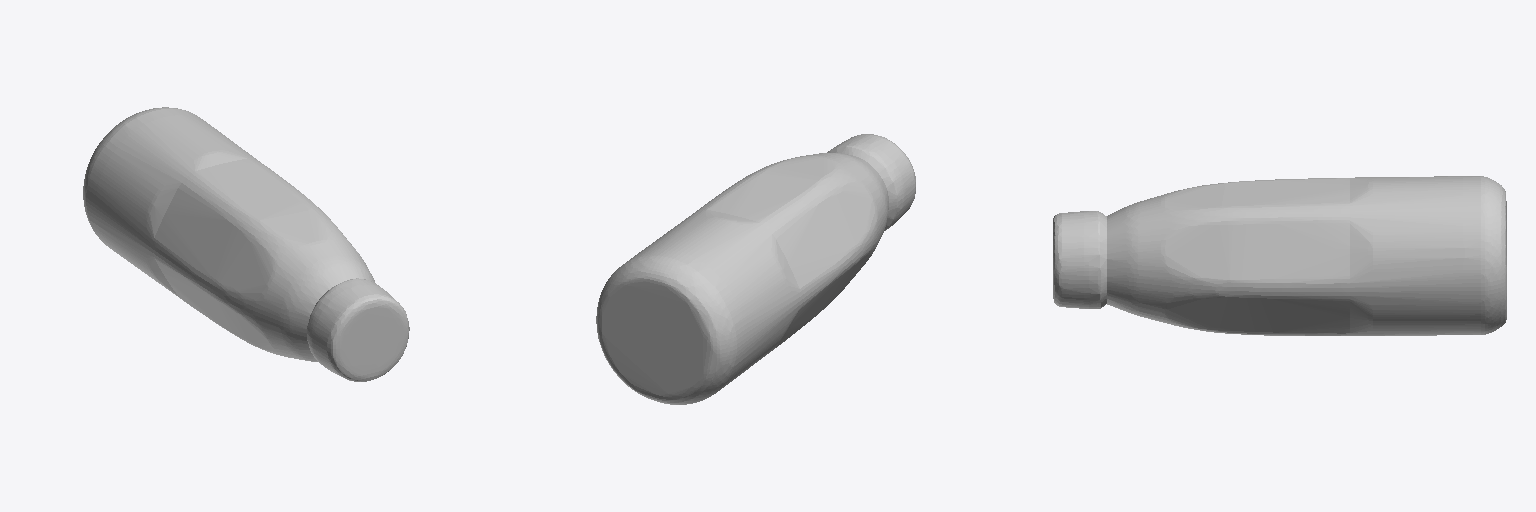
Rendered from coacd_collision.obj.
The picture shows the model from 3 angles: view 1: azimuth 30°, elevation 25°; view 2: azimuth 150°, elevation 25°; view 3: azimuth 270°, elevation 25°; orthographic projection.
Visible parts, largest first — view 1: geometry_2, geometry_0, geometry_1; view 2: geometry_0, geometry_2, geometry_1; view 3: geometry_2, geometry_0, geometry_1.
Boxes of the visible parts, <box> form: geometry_2: <box>153,159,374,361</box>; geometry_0: <box>83,107,259,296</box>; geometry_1: <box>307,278,409,381</box>; geometry_0: <box>596,210,800,404</box>; geometry_2: <box>696,153,888,347</box>; geometry_1: <box>827,134,915,230</box>; geometry_2: <box>1107,178,1349,335</box>; geometry_0: <box>1350,176,1506,335</box>; geometry_1: <box>1053,211,1106,308</box>.
Bounding box in the file's own units: 69.96 × 69.38 × 199.